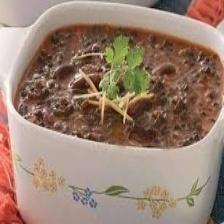sabzi: (14, 22, 224, 148)
